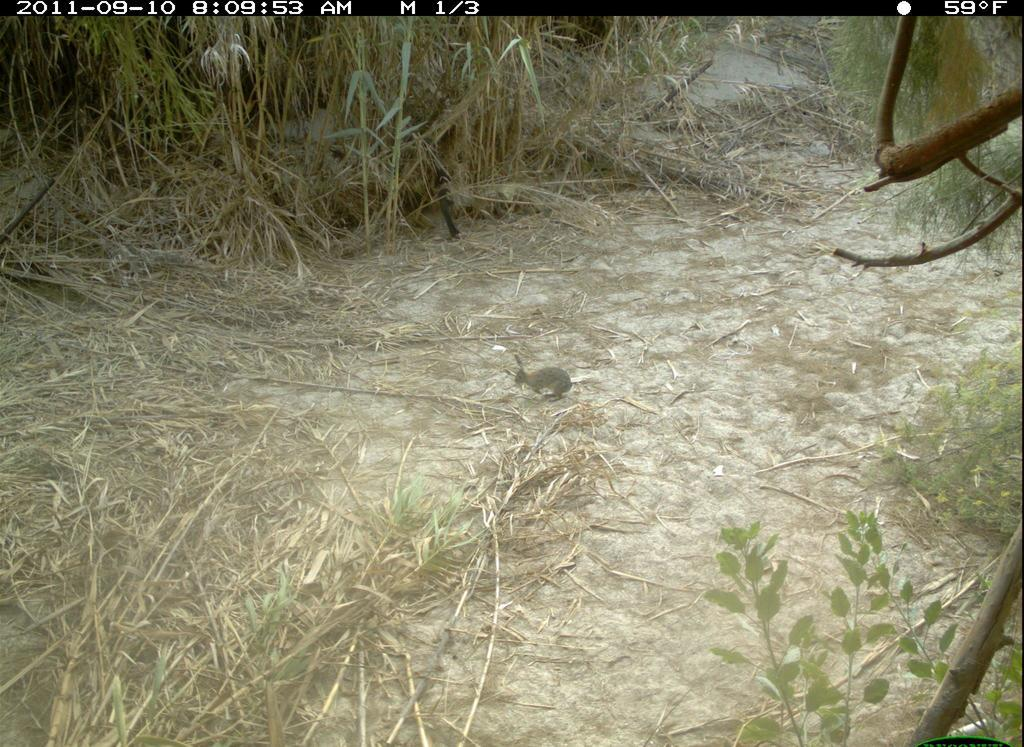rabbit: (505, 356, 577, 404)
